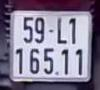1: (74, 48, 86, 79), (14, 46, 25, 77), (59, 48, 71, 76), (68, 17, 79, 46)
5: (42, 46, 57, 77), (22, 15, 35, 45)
6: (28, 48, 40, 74)
9: (33, 14, 46, 44)
L: (55, 15, 68, 45)
